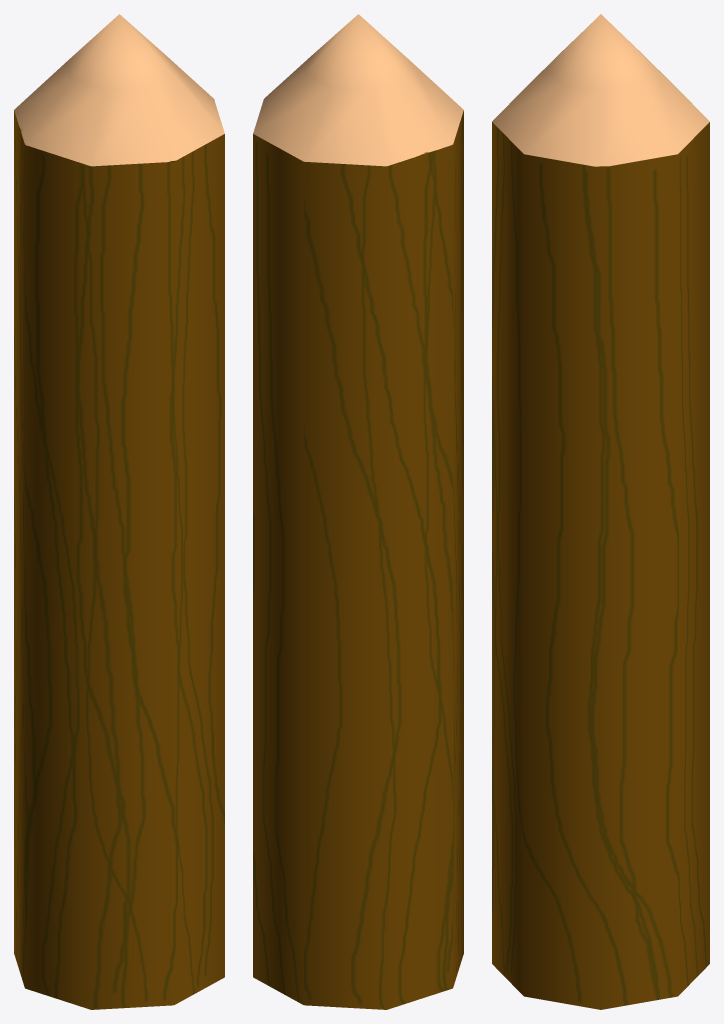
File: Wall_Spike_B.fbx
3 views of the same model, side by side, from view 1: azimuth 30°, elevation 25°; view 2: azimuth 150°, elevation 25°; view 3: azimuth 270°, elevation 25° (orthographic).
Parts seen in each view (by area): view 1: Wall_Spike_B_01; view 2: Wall_Spike_B_01; view 3: Wall_Spike_B_01.
Part boxes in pixels (<box>): Wall_Spike_B_01: <box>14,14,224,1009</box>; Wall_Spike_B_01: <box>253,14,463,1009</box>; Wall_Spike_B_01: <box>492,14,709,1009</box>.
Bounding box in the file's own units: 45.49 × 219 × 45.49.
